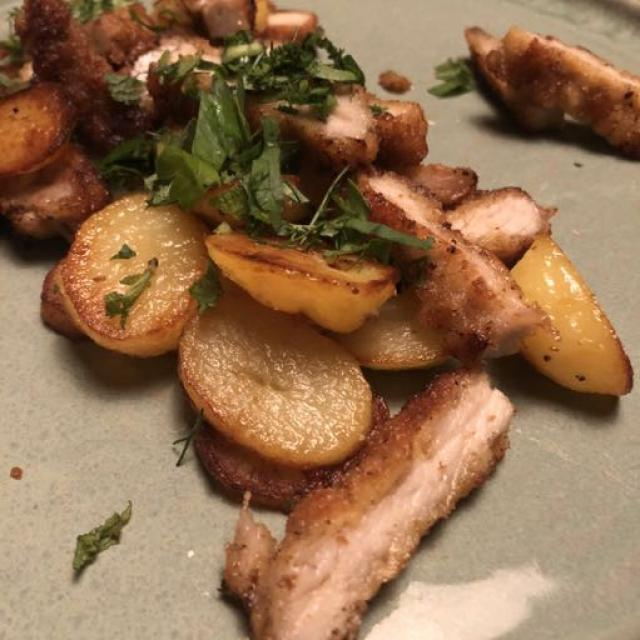country-fries: (11, 13, 420, 504)
pork-roast: (149, 30, 630, 630)
